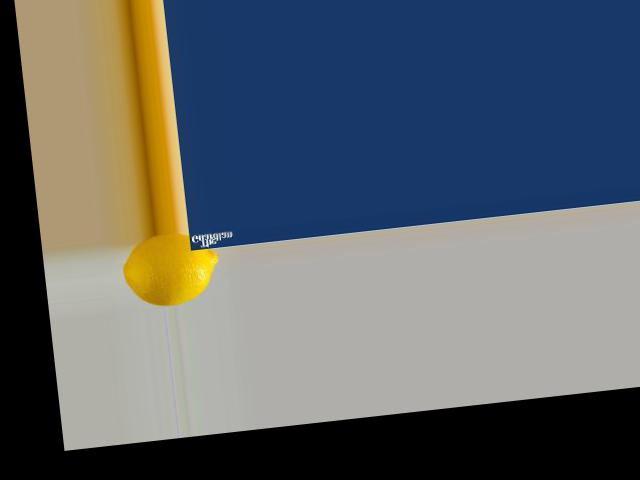lemon: (107, 227, 229, 311)
